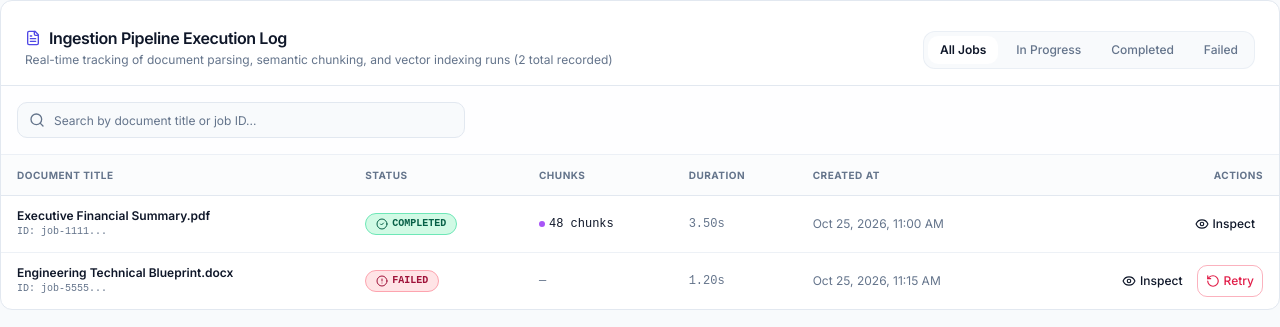
Phase 2.1 AI Knowledge Ingestion UI Components › IngestionJobTable Component › filters rows dynamically using the search bar input
This screenshot has width=1280, height=327.
Type "Financial" into the field with test id "ingestion-search-input" at (241, 120), box [17, 102, 465, 138]
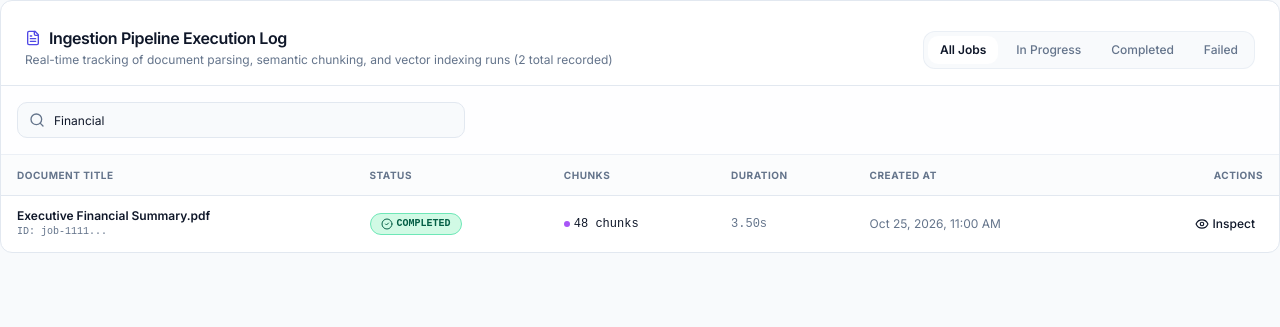
Expected: the text "Executive Financial Summary.pdf" is shown, [17, 208, 210, 223]
Expected: the text "Engineering Technical Blueprint.docx" is gone
